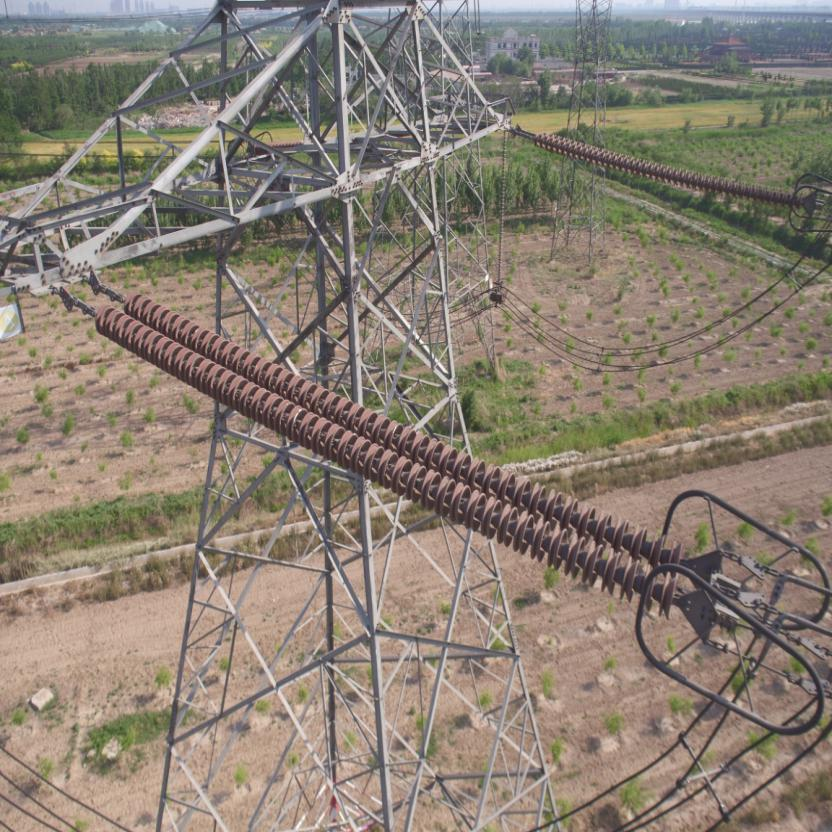insulator: (80, 283, 694, 619), (533, 127, 804, 213)
